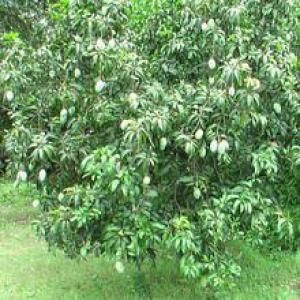Tree: (2, 0, 298, 291)
